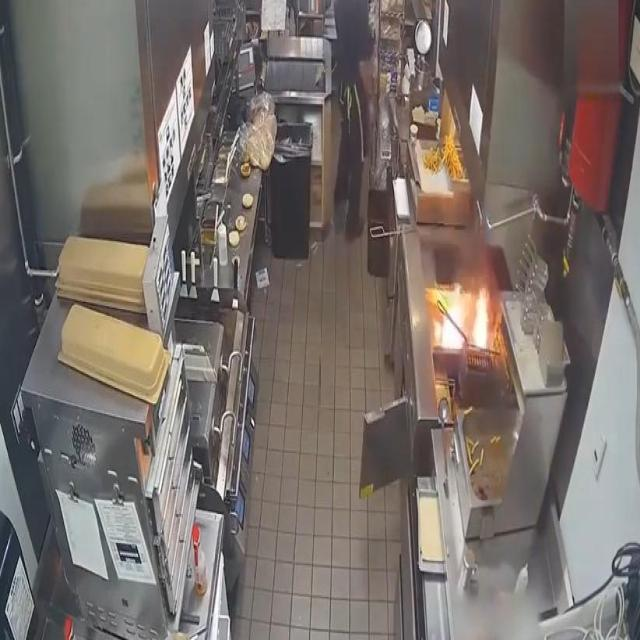smoke: (437, 277, 467, 352), (471, 284, 491, 350)
